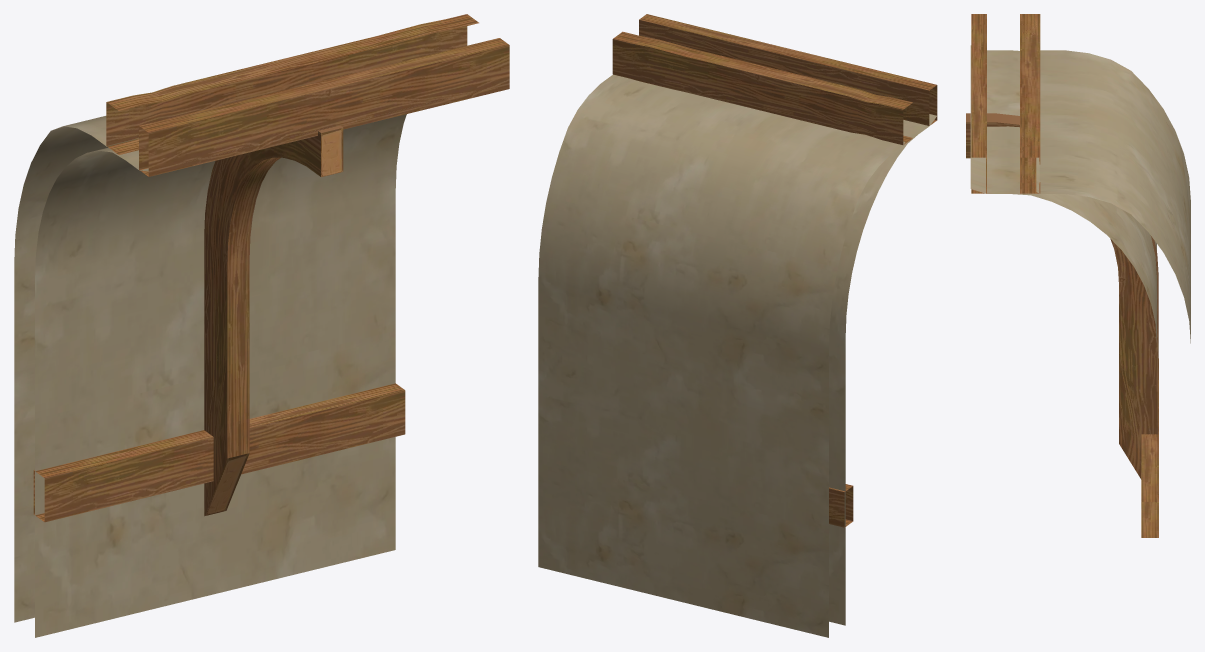
File: Overhang_Plaster_Short.glb
3 views of the same model, side by side, from view 1: azimuth 30°, elevation 25°; view 2: azimuth 150°, elevation 25°; view 3: azimuth 270°, elevation 25° (orthographic). The views are drawn at different scales.
Visible parts, largest first — view 1: Overhang_Plaster_Short; view 2: Overhang_Plaster_Short; view 3: Overhang_Plaster_Short.
Part boxes in pixels (x1,y1,x2,y2): Overhang_Plaster_Short: (14,14,509,637); Overhang_Plaster_Short: (538,14,937,637); Overhang_Plaster_Short: (966,14,1190,537).
Size of the model in its own units: 2 by 3.12 by 1.32.
Materials: 2 (2 with a texture image).
